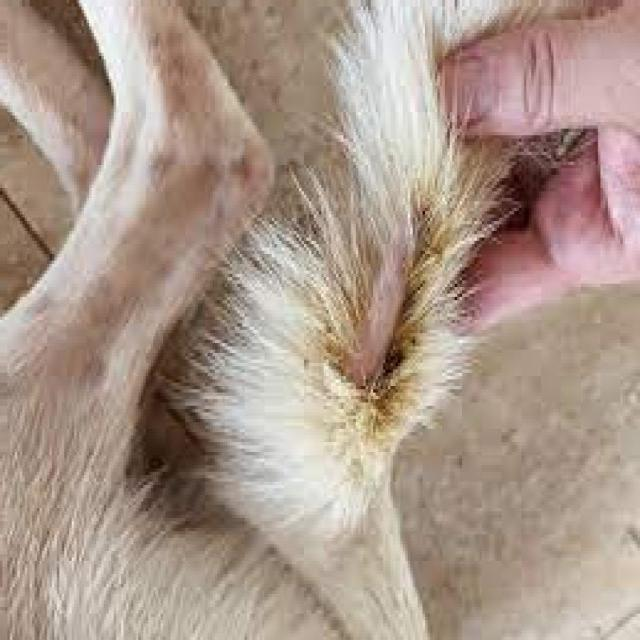allergic dermatitis: (319, 188, 423, 394)
